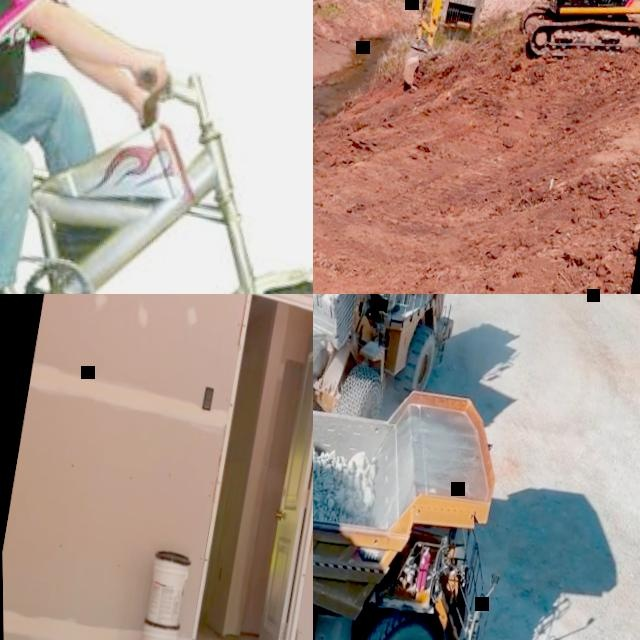NO-Safety Vest: (0, 0, 74, 163)
Person: (0, 0, 214, 294)
machinery: (313, 339, 532, 640), (394, 0, 640, 131), (313, 294, 470, 431)
